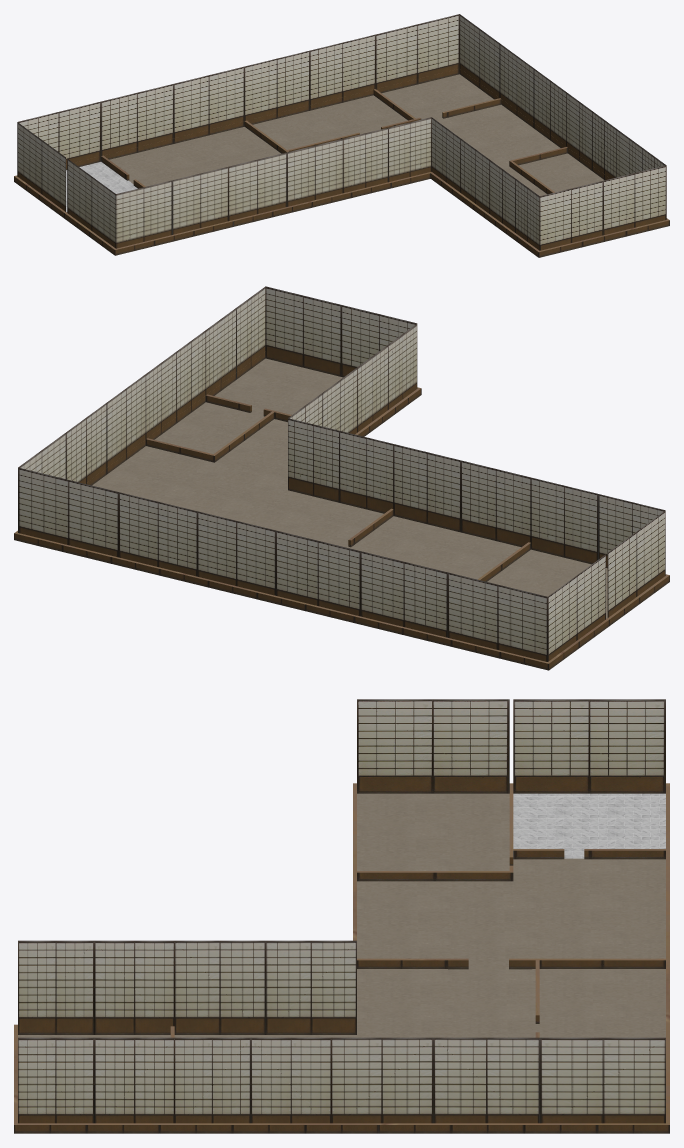
File: rixi_1fban.FBX
3 views of the same model, one above another, from view 1: azimuth 30°, elevation 25°; view 2: azimuth 150°, elevation 25°; view 3: azimuth 270°, elevation 25° (orthographic). The views are drawn at different scales.
Visible parts, largest first — view 1: Group017, DrawCall_1758, DrawCall_1757; view 2: Group017, DrawCall_1758; view 3: Group017, DrawCall_1758, DrawCall_1757.
Boxes of the visible parts, box(x1,y1,x2,y2) form: Group017: box(14, 14, 669, 257); DrawCall_1758: box(109, 74, 604, 195); DrawCall_1757: box(66, 162, 137, 211); Group017: box(14, 286, 669, 670); DrawCall_1758: box(92, 358, 607, 618); Group017: box(14, 699, 669, 1133); DrawCall_1758: box(18, 793, 665, 1037); DrawCall_1757: box(513, 793, 665, 858).
Bounding box in the file's own units: 3200 × 412 × 2596.
